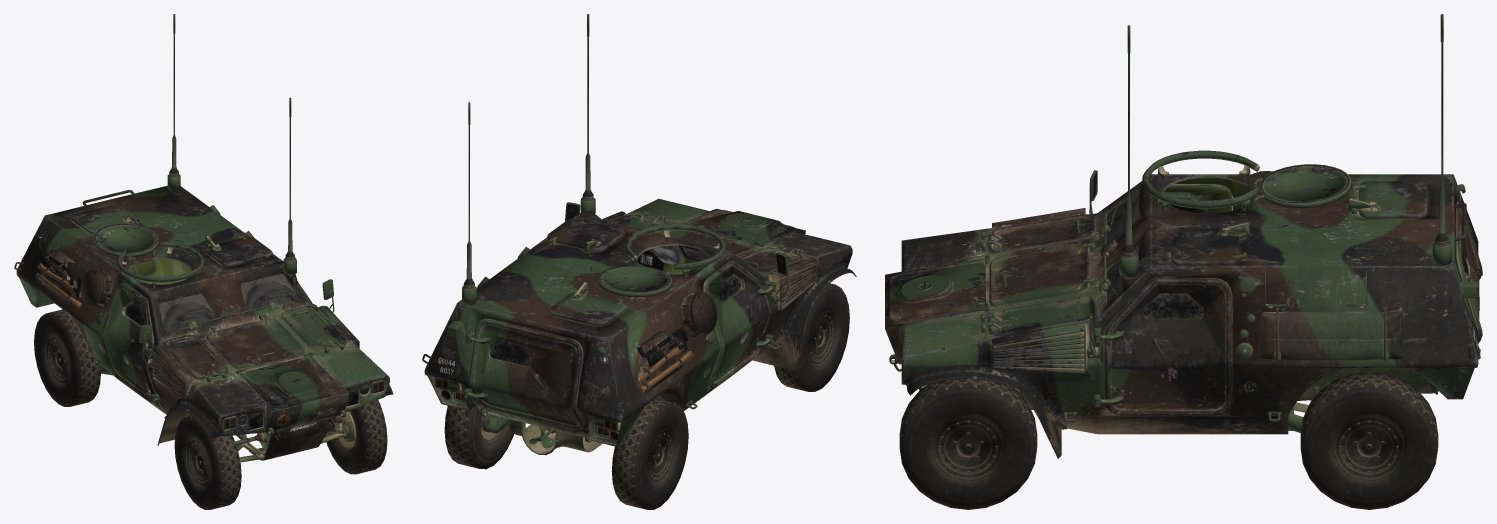
The picture shows the model from 3 angles, left to right: view 1: azimuth 30°, elevation 25°; view 2: azimuth 150°, elevation 25°; view 3: azimuth 270°, elevation 25°; orthographic projection. The views are drawn at different scales.
Parts seen in each view (by area): view 1: mesh41.dat.desirefx.me_, mesh45.dat.desirefx.me_, mesh6.dat.desirefx.me_, mesh8.dat.desirefx.me_, mesh43.dat.desirefx.me_, mesh16.dat.desirefx.me_, mesh31.dat.desirefx.me_, mesh7.dat.desirefx.me_, mesh44.dat.desirefx.me_, mesh20.dat.desirefx.me_, mesh19.dat.desirefx.me_, mesh21.dat.desirefx.me_ (+5 smaller); view 2: mesh41.dat.desirefx.me_, mesh6.dat.desirefx.me_, mesh42.dat.desirefx.me_, mesh45.dat.desirefx.me_, mesh43.dat.desirefx.me_, mesh8.dat.desirefx.me_, mesh31.dat.desirefx.me_, mesh44.dat.desirefx.me_, mesh19.dat.desirefx.me_, mesh30.dat.desirefx.me_, mesh32.dat.desirefx.me_, mesh21.dat.desirefx.me_ (+5 smaller); view 3: mesh41.dat.desirefx.me_, mesh45.dat.desirefx.me_, mesh43.dat.desirefx.me_, mesh6.dat.desirefx.me_, mesh7.dat.desirefx.me_, mesh27.dat.desirefx.me_, mesh31.dat.desirefx.me_, mesh44.dat.desirefx.me_, mesh32.dat.desirefx.me_, mesh16.dat.desirefx.me_, mesh21.dat.desirefx.me_, mesh13.dat.desirefx.me_ (+4 smaller).
Part boxes in pixels (left/top/right/bottom): mesh41.dat.desirefx.me_: left=16, top=185, right=389, bottom=436; mesh45.dat.desirefx.me_: left=81, top=190, right=393, bottom=445; mesh6.dat.desirefx.me_: left=34, top=309, right=100, bottom=406; mesh8.dat.desirefx.me_: left=174, top=415, right=241, bottom=509; mesh43.dat.desirefx.me_: left=100, top=281, right=313, bottom=403; mesh16.dat.desirefx.me_: left=125, top=274, right=358, bottom=428; mesh31.dat.desirefx.me_: left=93, top=215, right=246, bottom=288; mesh7.dat.desirefx.me_: left=325, top=400, right=387, bottom=474; mesh44.dat.desirefx.me_: left=71, top=205, right=272, bottom=266; mesh20.dat.desirefx.me_: left=236, top=416, right=336, bottom=460; mesh19.dat.desirefx.me_: left=35, top=236, right=82, bottom=309; mesh21.dat.desirefx.me_: left=167, top=14, right=296, bottom=274; mesh41.dat.desirefx.me_: left=424, top=198, right=852, bottom=437; mesh6.dat.desirefx.me_: left=444, top=398, right=688, bottom=509; mesh42.dat.desirefx.me_: left=468, top=319, right=584, bottom=430; mesh45.dat.desirefx.me_: left=500, top=209, right=856, bottom=370; mesh43.dat.desirefx.me_: left=703, top=260, right=773, bottom=388; mesh8.dat.desirefx.me_: left=774, top=283, right=849, bottom=391; mesh31.dat.desirefx.me_: left=549, top=223, right=725, bottom=304; mesh44.dat.desirefx.me_: left=547, top=218, right=626, bottom=326; mesh19.dat.desirefx.me_: left=636, top=327, right=693, bottom=395; mesh30.dat.desirefx.me_: left=427, top=375, right=644, bottom=446; mesh32.dat.desirefx.me_: left=422, top=247, right=779, bottom=442; mesh21.dat.desirefx.me_: left=462, top=14, right=595, bottom=304; mesh41.dat.desirefx.me_: left=885, top=174, right=1478, bottom=434; mesh45.dat.desirefx.me_: left=886, top=171, right=1466, bottom=458; mesh43.dat.desirefx.me_: left=1104, top=184, right=1232, bottom=415; mesh6.dat.desirefx.me_: left=1300, top=372, right=1438, bottom=509; mesh7.dat.desirefx.me_: left=899, top=379, right=1037, bottom=509; mesh27.dat.desirefx.me_: left=1259, top=311, right=1402, bottom=360; mesh31.dat.desirefx.me_: left=1142, top=150, right=1379, bottom=259; mesh44.dat.desirefx.me_: left=1171, top=181, right=1427, bottom=265; mesh32.dat.desirefx.me_: left=889, top=184, right=1482, bottom=421; mesh16.dat.desirefx.me_: left=901, top=191, right=1468, bottom=358; mesh21.dat.desirefx.me_: left=1119, top=14, right=1451, bottom=277; mesh13.dat.desirefx.me_: left=1086, top=170, right=1150, bottom=358.
Bounding box in the file's own units: 0.0285 × 0.0472 × 0.0533.
Materials: 46 (46 with a texture image).
